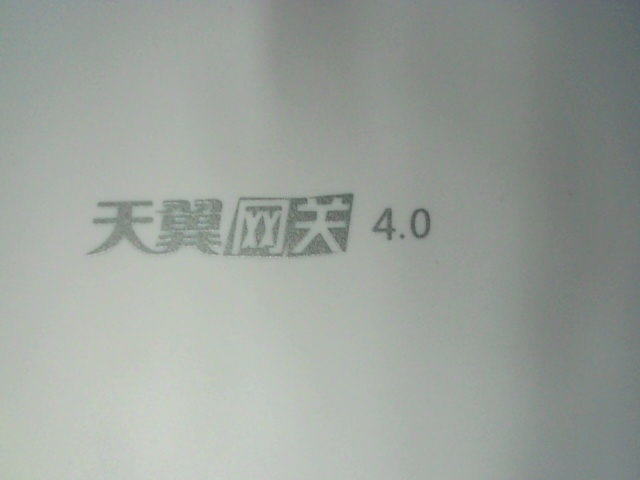BM_TianYiWangGuan: (78, 184, 432, 265)
